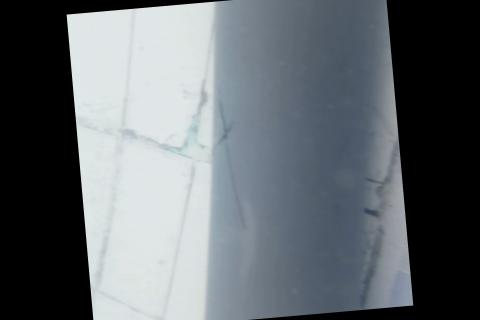keretakan: (209, 95, 251, 234)
